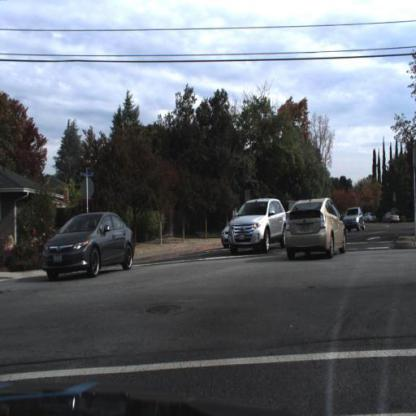car: (40, 210, 136, 280), (285, 198, 347, 261), (229, 199, 287, 256), (378, 207, 402, 226), (362, 208, 377, 230)
